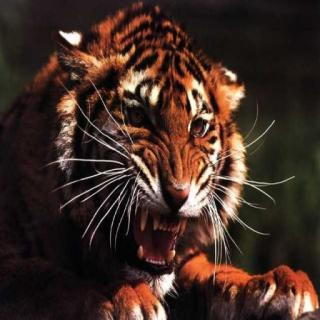Tiger: (1, 0, 315, 320)
